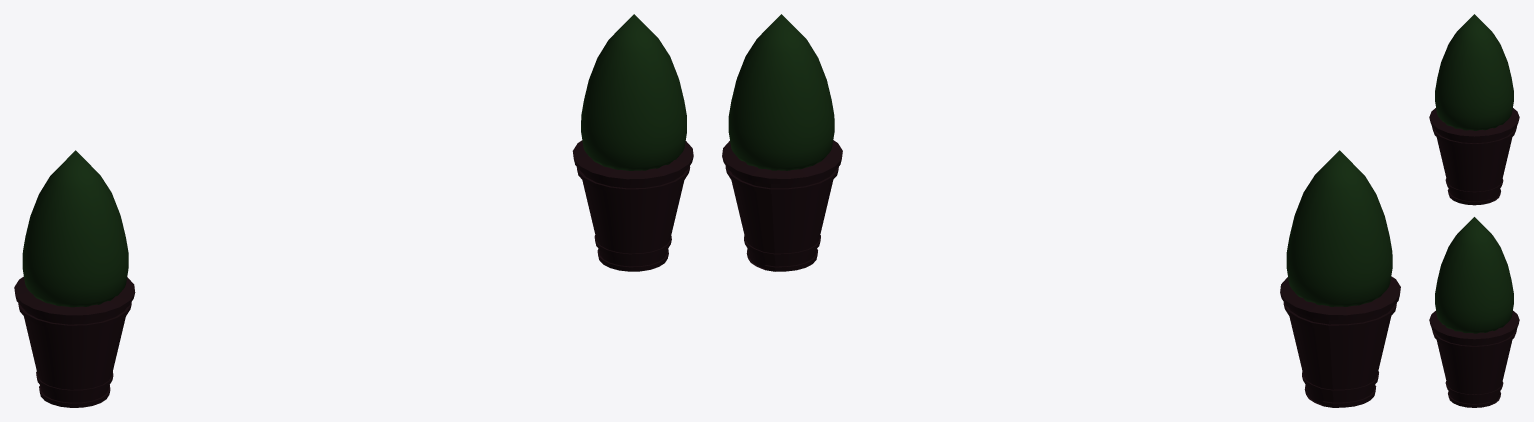
The model's file is Comb Pflanzen.fbx.
3 renders of one model, left to right at view 1: azimuth 30°, elevation 25°; view 2: azimuth 150°, elevation 25°; view 3: azimuth 270°, elevation 25°, orthographic. The views are drawn at different scales.
Visible parts, largest first — view 1: pSphere6; view 2: pSphere6; view 3: pSphere6.
Part boxes in pixels (x1=…): pSphere6: x1=14, y1=14, x2=693, y2=407; pSphere6: x1=722, y1=14, x2=1400, y2=407; pSphere6: x1=1429, y1=14, x2=1519, y2=407.
Bounding box in the file's own units: 376 × 132 × 59.7.
